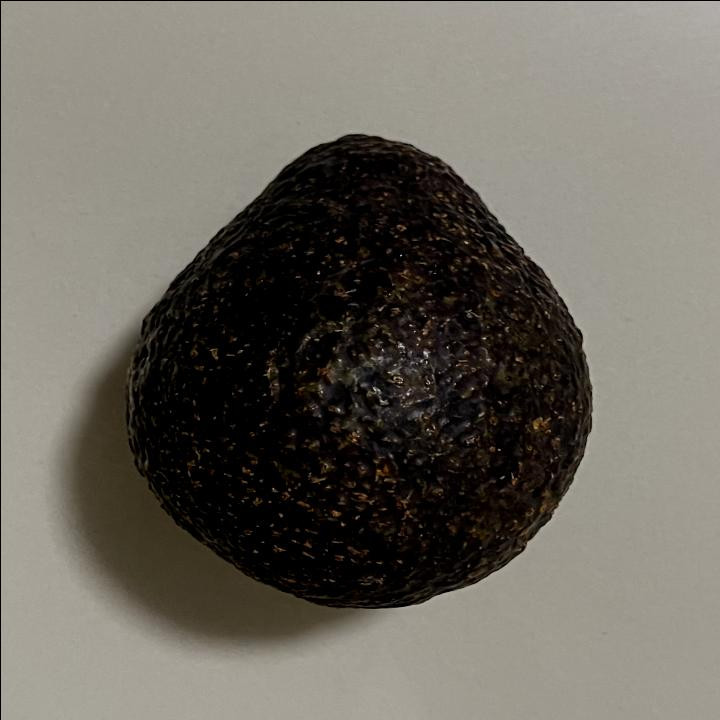Level1: (107, 116, 608, 618)
